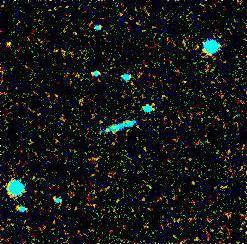star: (0, 28, 22, 58)
